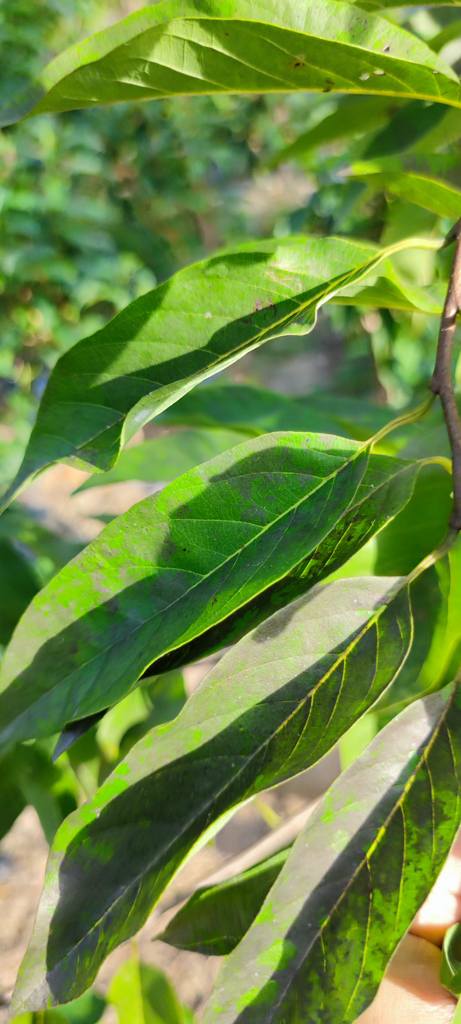Sooty mold: (279, 823, 408, 991), (156, 575, 294, 671), (223, 466, 311, 517), (85, 564, 140, 613)
